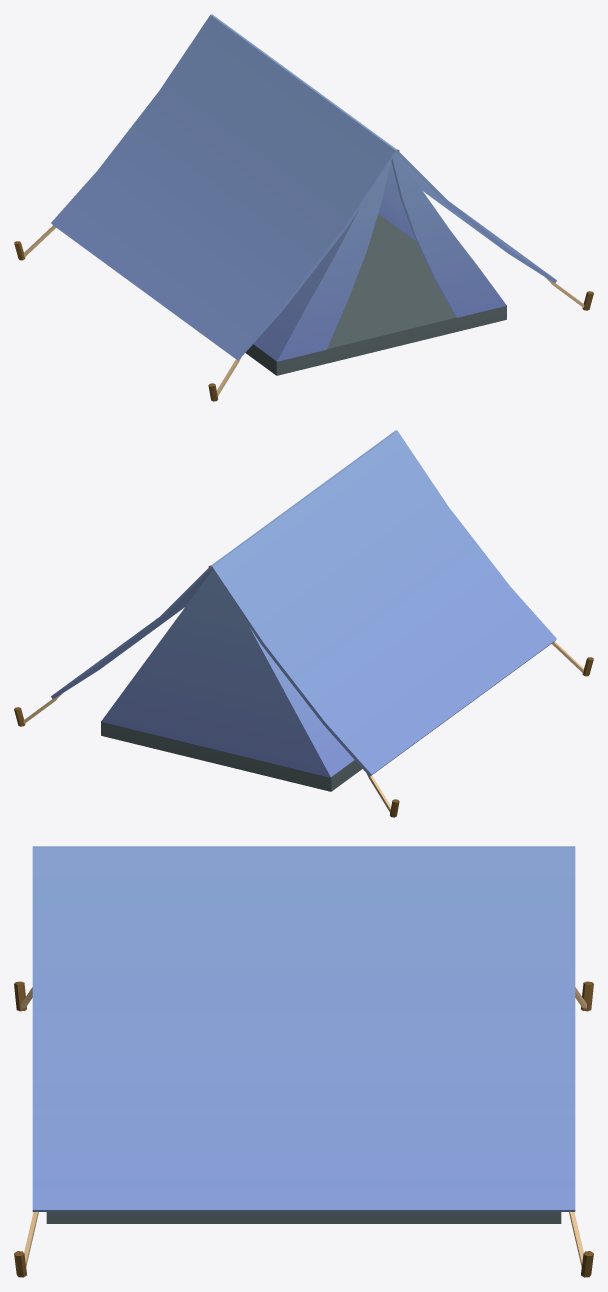
File: Tent.fbx
3 renders of one model, top to bottom at view 1: azimuth 30°, elevation 25°; view 2: azimuth 150°, elevation 25°; view 3: azimuth 270°, elevation 25°, orthographic. The views are drawn at different scales.
Visible parts, largest first — view 1: Tent; view 2: Tent; view 3: Tent.
Part boxes in pixels (bbox=[...]): Tent: bbox=[14, 14, 593, 401]; Tent: bbox=[14, 430, 593, 817]; Tent: bbox=[14, 846, 593, 1277].
Size of the model in its own units: 2.29 by 1.15 by 2.04.
